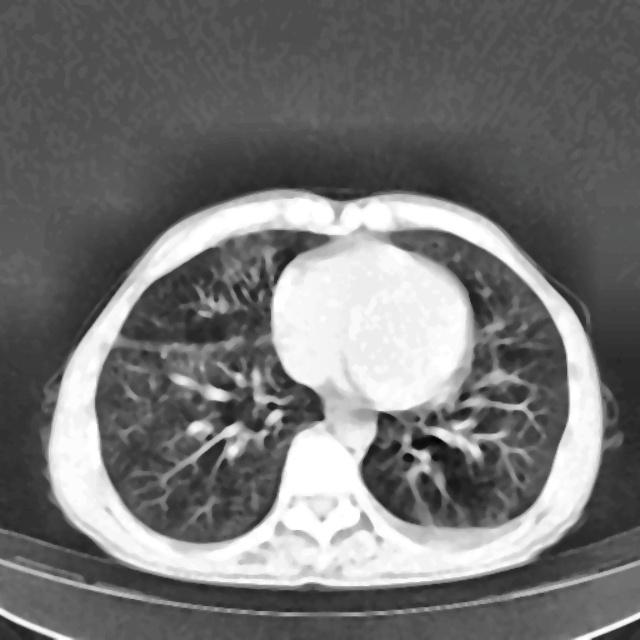covid: (40, 186, 616, 589)
